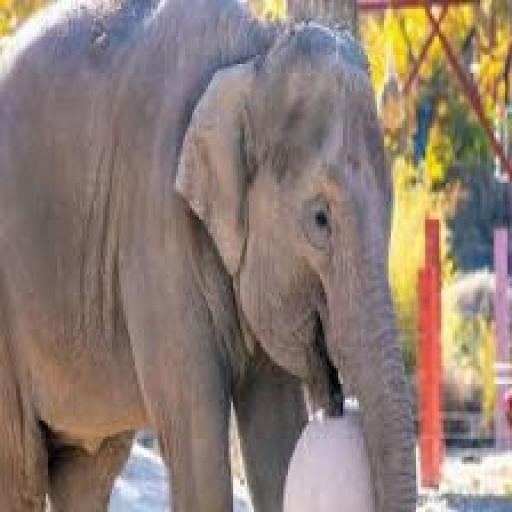Elephant: (0, 0, 418, 512)
